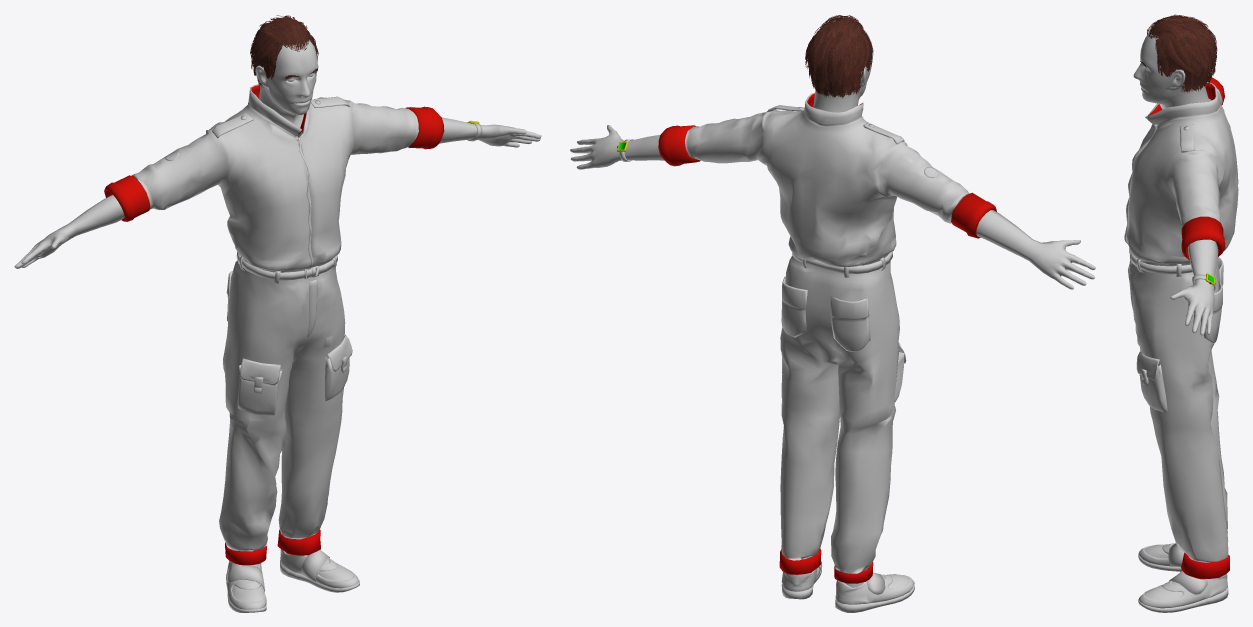
The model's file is bishopTpose.fbx.
3 renders of one model, left to right at view 1: azimuth 30°, elevation 25°; view 2: azimuth 150°, elevation 25°; view 3: azimuth 270°, elevation 25°, orthographic.
Parts seen in each view (by area): view 1: bishop; view 2: bishop; view 3: bishop.
Part boxes in pixels (x1=…): bishop: x1=14, y1=15, x2=541, y2=612; bishop: x1=570, y1=15, x2=1095, y2=612; bishop: x1=1124, y1=14, x2=1238, y2=612.
Bounding box in the file's own units: 317 × 330 × 59.97.
